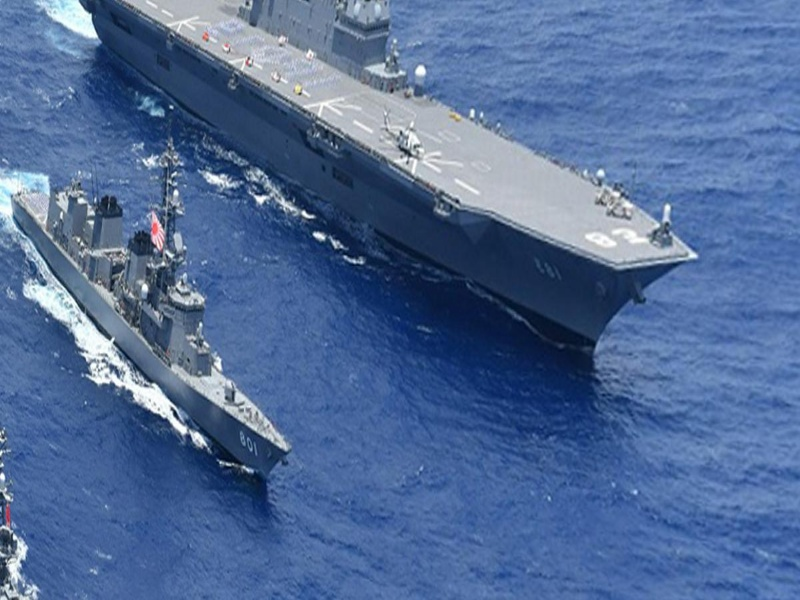carrier: (112, 2, 733, 261)
cruise: (19, 182, 300, 490)
